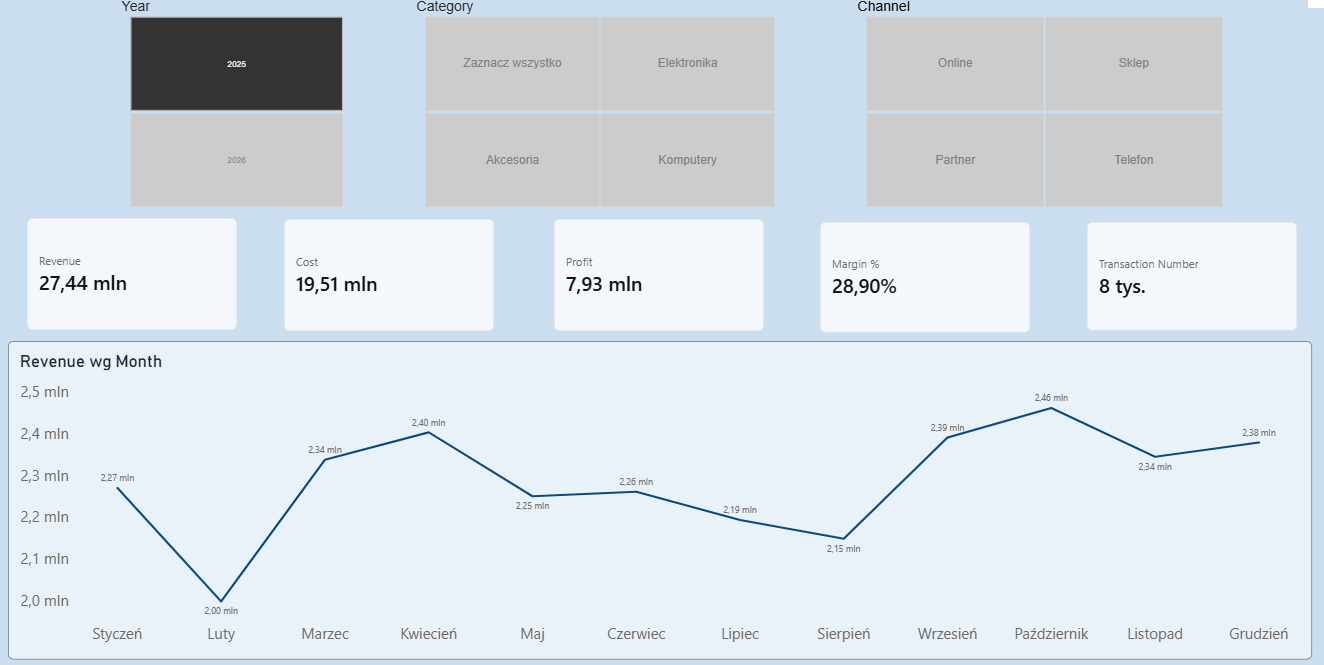

Layout of this report page (visuals, bound fields, positions):
{"tool":"powerbi","page":{"name":"Sales Performance Overview","canvas":[1920,1080],"ordinal":0},"visuals":[{"type":"cardVisual","fields":{"Data":["Miary.Cost"]},"box":[421.7,426.7,300,160],"z":0},{"type":"cardVisual","fields":{"Data":["Miary.Profit"]},"box":[806.7,426.7,300,160],"z":1000},{"type":"cardVisual","fields":{"Data":["Miary.Revenue"]},"box":[53.8,426.2,300,160],"z":2000},{"type":"cardVisual","fields":{"Data":["Miary.Transaction Number"]},"box":[1568.3,431.7,300,155],"z":3000},{"type":"slicer","fields":{"Values":["kalendarz.Rok"]},"box":[181.7,111.7,343.3,300],"z":4000},{"type":"cardVisual","fields":{"Data":["Miary.Margin %"]},"box":[1186.7,431.7,300,158.3],"z":5000},{"type":"lineChart","fields":{"Category":["kalendarz.NazwaMiesiac"],"Y":["Miary.Revenue"]},"box":[26.7,601.7,1863.3,455],"z":6000},{"type":"slicer","fields":{"Values":["produkty.Kategoria"]},"box":[603.3,111.7,538.3,300],"z":7000},{"type":"slicer","fields":{"Values":["kanały.Kanal"]},"box":[1233.3,111.7,548.3,300],"z":8000},{"type":"textbox","box":[27.1,17.1,1892.9,74.3],"z":9000}]}

Visuals, with their boxes on the page's 1920x1080 design canvas (x1, y1, x2, y2). These are canvas units, not pixel positions in the 1324x665 screenshot, which may show the page scaled, cropped or inside an application window:
cardVisual - Miary.Cost: bbox=[422, 427, 722, 587]
cardVisual - Miary.Profit: bbox=[807, 427, 1107, 587]
cardVisual - Miary.Revenue: bbox=[54, 426, 354, 586]
cardVisual - Miary.Transaction Number: bbox=[1568, 432, 1868, 587]
slicer - kalendarz.Rok: bbox=[182, 112, 525, 412]
cardVisual - Miary.Margin %: bbox=[1187, 432, 1487, 590]
lineChart - kalendarz.NazwaMiesiac x Miary.Revenue: bbox=[27, 602, 1890, 1057]
slicer - produkty.Kategoria: bbox=[603, 112, 1142, 412]
slicer - kanały.Kanal: bbox=[1233, 112, 1782, 412]
textbox: bbox=[27, 17, 1920, 91]
